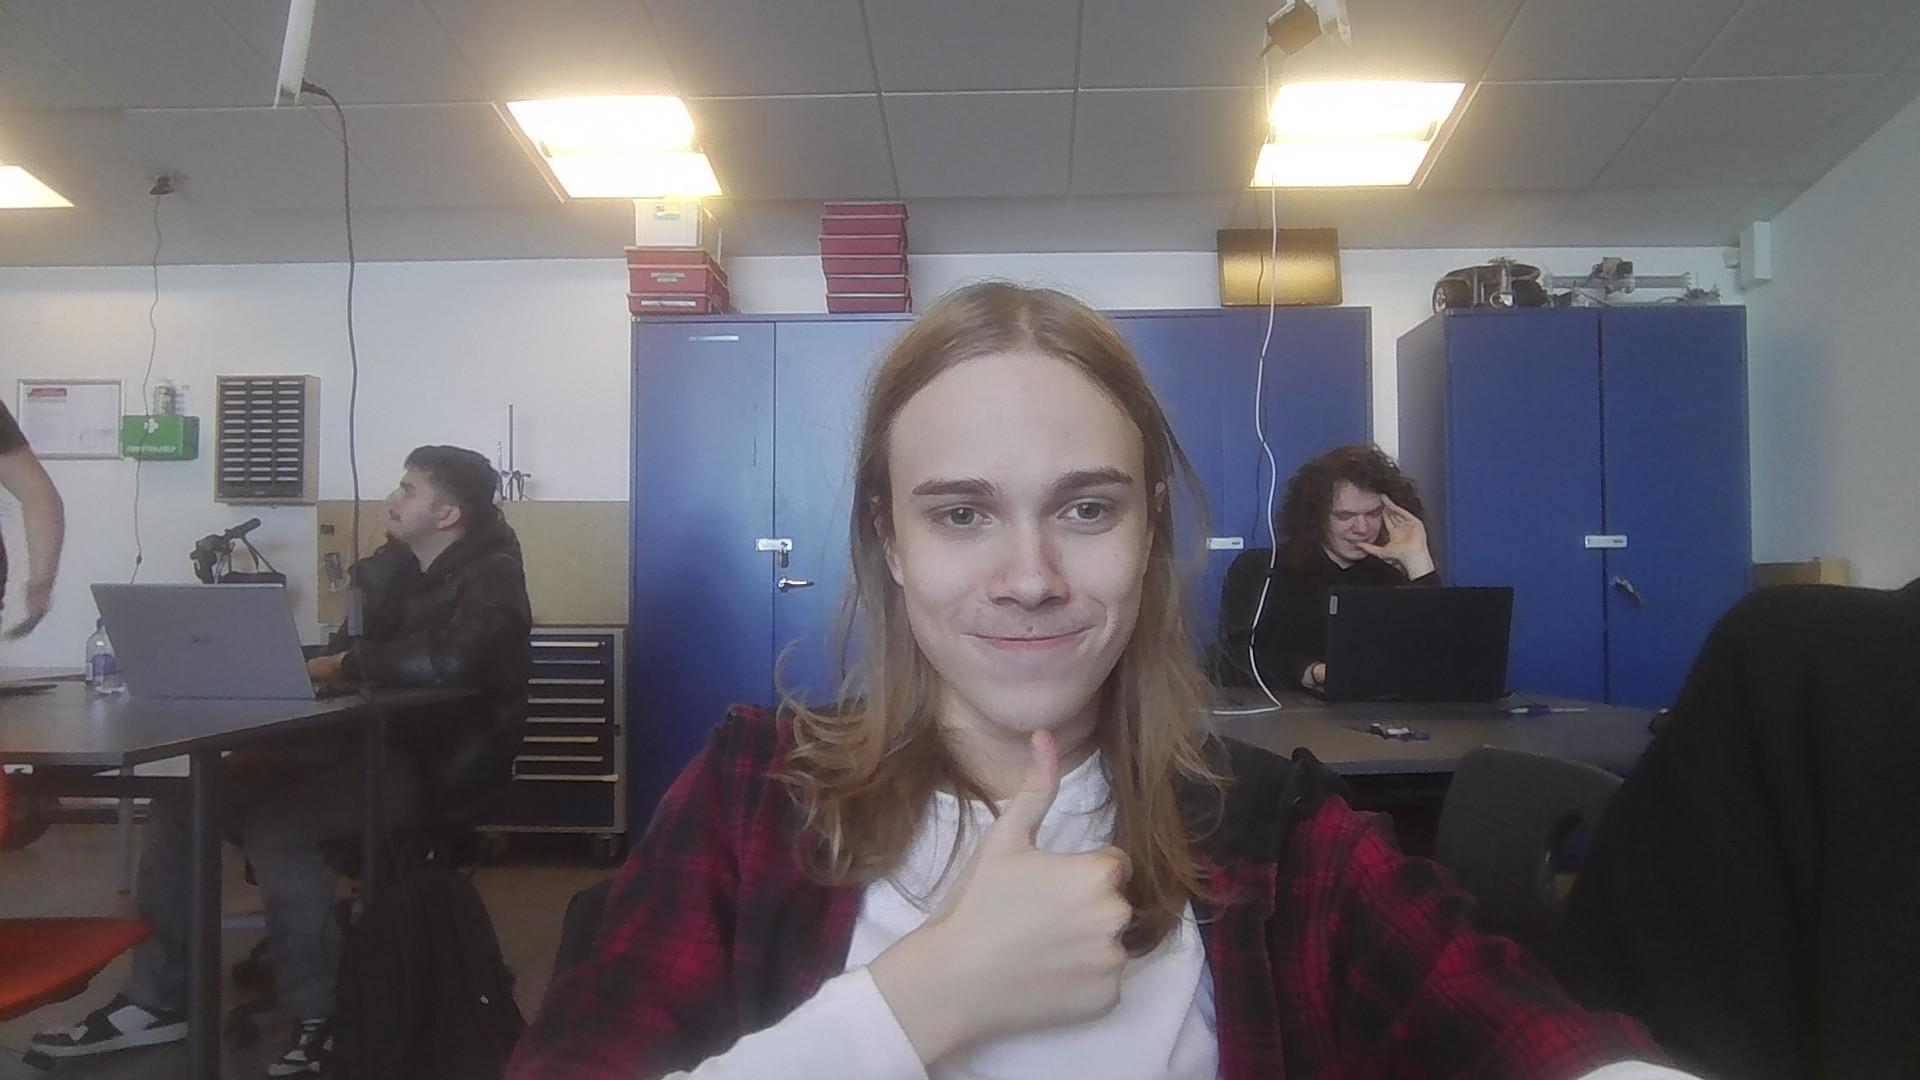thumbs up: (936, 731, 1145, 1054)
